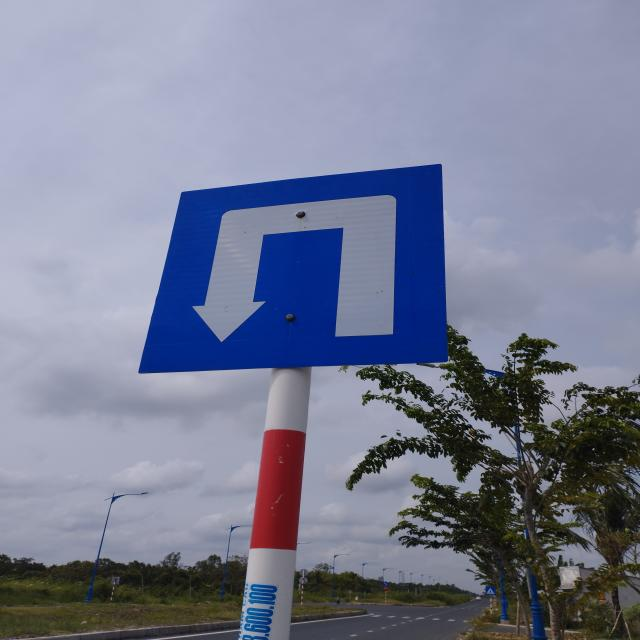Den_Giao_Thong: (138, 164, 446, 372)
